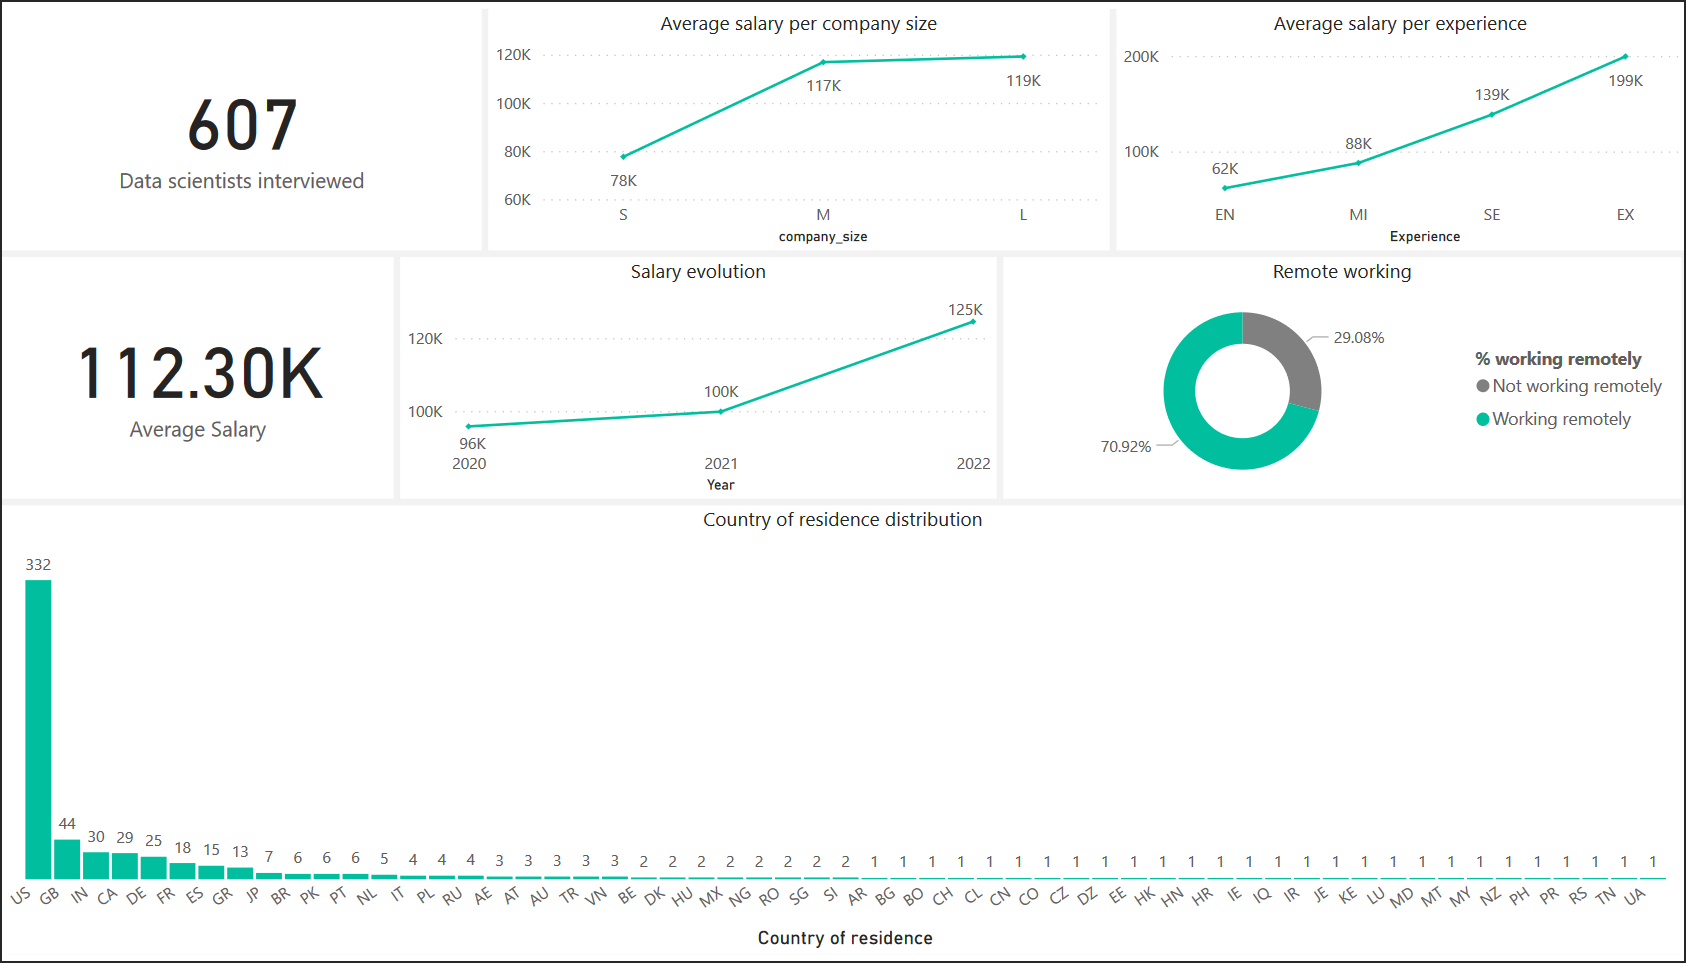

This screenshot's page, from the dashboard's own definition file:
{"tool":"powerbi","page":{"name":"Page 1","canvas":[1280,720],"ordinal":0},"visuals":[{"type":"lineChart","title":"Average salary per company size","fields":{"Category":["ds_salaries.company_size"],"Y":["Avg(ds_salaries.salary_in_usd)"]},"box":[369.8,0,472.9,184],"z":0},{"type":"lineChart","title":"Salary evolution","fields":{"Y":["Avg(ds_salaries.salary_in_usd)"],"Category":["ds_salaries.work_year"]},"box":[303,189,454,184],"z":1000},{"type":"lineChart","title":"Average salary per experience","fields":{"Category":["ds_salaries.experience_level"],"Y":["Avg(ds_salaries.salary_in_usd)"]},"box":[847.5,0,432.5,184],"z":2000},{"type":"donutChart","title":"Remote working","fields":{"Y":["ds_salaries.WorkFromHomePercentage","Avg(ds_salaries.remote_ratio)"]},"box":[762,189,516,184],"z":3000},{"type":"clusteredColumnChart","title":"Country of residence distribution","fields":{"Y":["ds_salaries.employee_residence_count"],"Category":["ds_salaries.employee_residence"]},"box":[0,378,1280,342],"z":4000},{"type":"card","fields":{"Values":["Avg(ds_salaries.salary_in_usd)"]},"box":[0,189,298,184],"z":5000},{"type":"card","fields":{"Values":["CountNonNull(ds_salaries.Column1)"]},"box":[0,0,365,184],"z":6000}]}

Visuals, with their boxes in screenshot pixels (x1, y1, x2, y2), scaled from the page's 1280x720 canvas onto the 1686x963 screenshot:
"Average salary per company size" lineChart: [left=487, top=0, right=1110, bottom=246]
"Salary evolution" lineChart: [left=399, top=253, right=997, bottom=499]
"Average salary per experience" lineChart: [left=1116, top=0, right=1685, bottom=246]
"Remote working" donutChart: [left=1004, top=253, right=1683, bottom=499]
"Country of residence distribution" clusteredColumnChart: [left=0, top=506, right=1685, bottom=962]
card - Avg(ds_salaries.salary_in_usd): [left=0, top=253, right=393, bottom=499]
card - CountNonNull(ds_salaries.Column1): [left=0, top=0, right=481, bottom=246]
